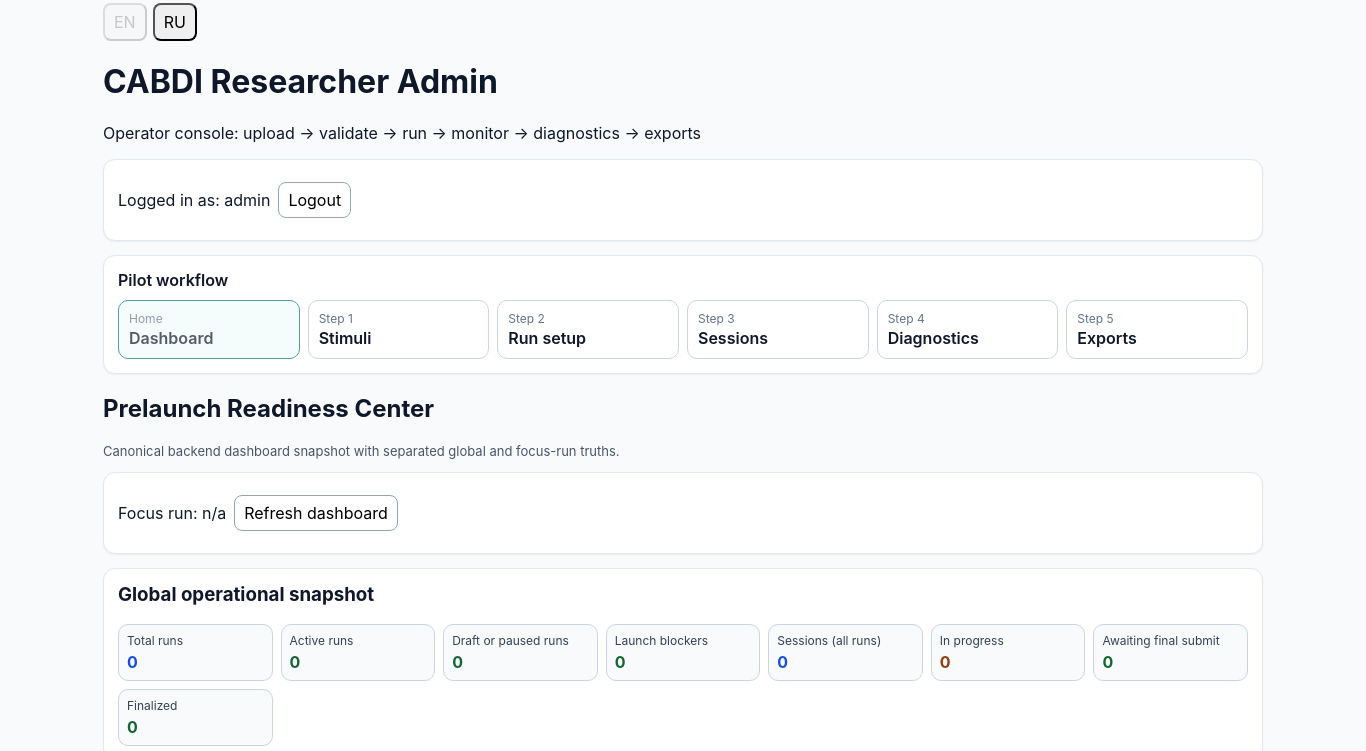
researcher auth shell › surfaces preview endpoint failures and clears stale preview values
Expected: the text "Logged in as: admin" is shown, [118,190,270,210]
Click the button with aria-label "Step 2: Create & Control Runs". click: click(588, 329)
box: [497,300,679,359]
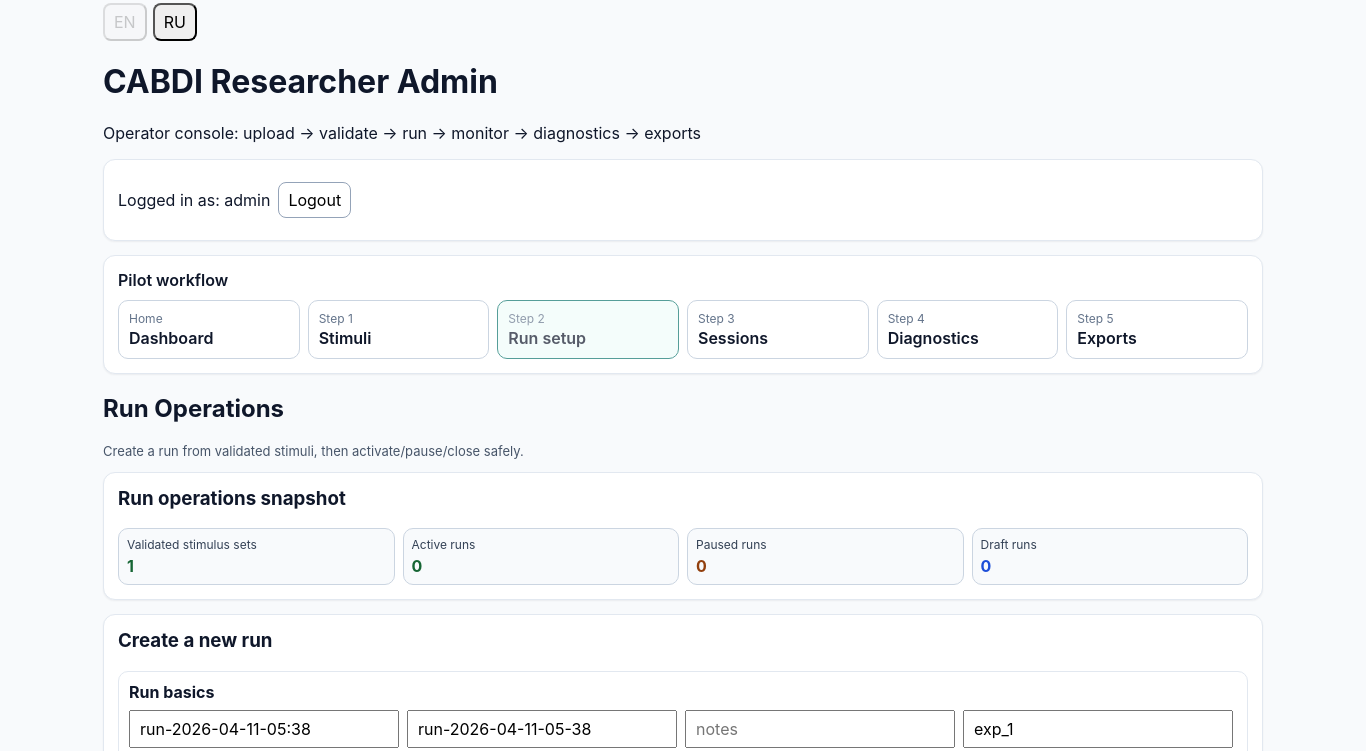
Type "-updated" into the 1st field with placeholder "run name". click: (264, 729)
box: [129,710,399,748]
(page scrolled)
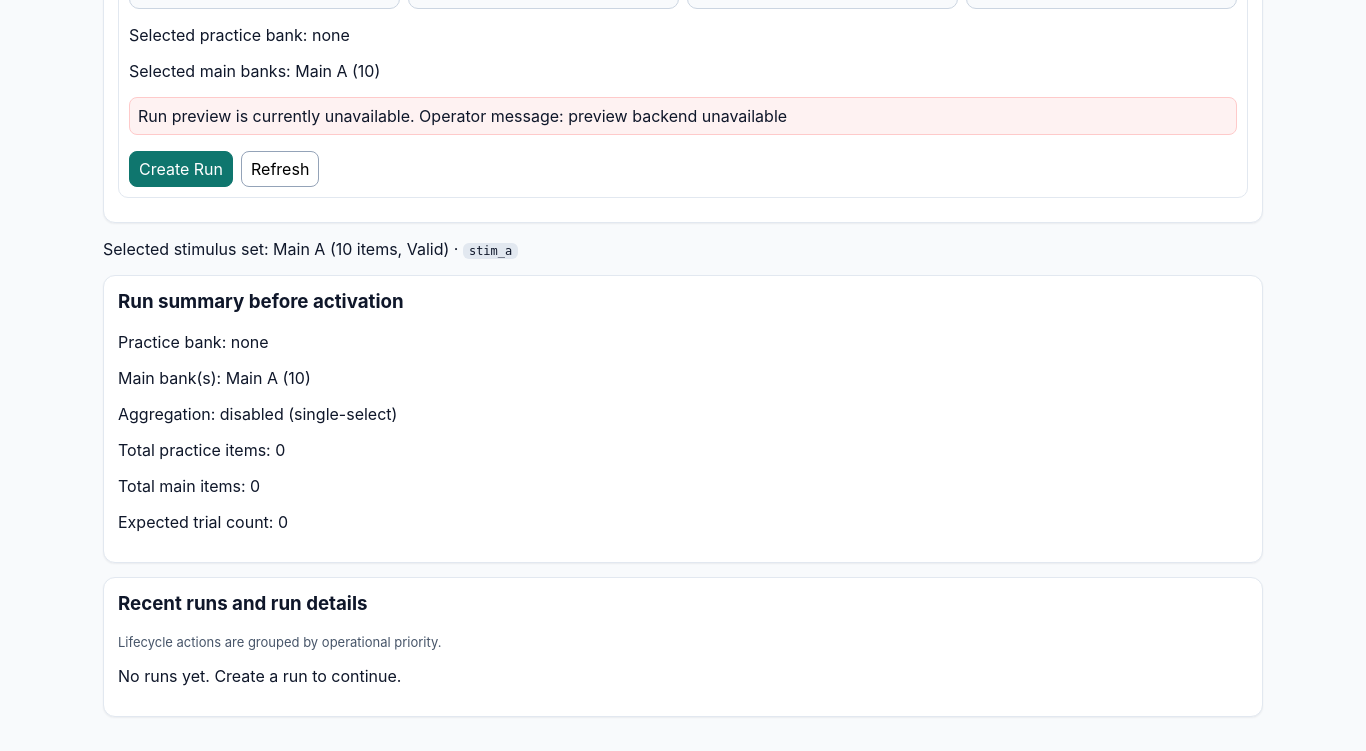
Expected: the text "Expected trial count: 0" is shown, [118,512,288,532]
